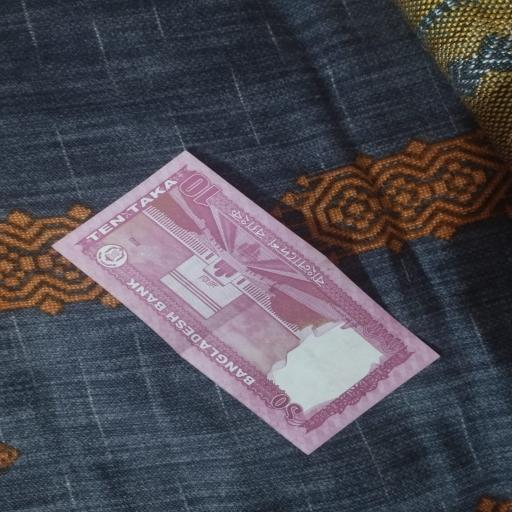10taka: (45, 149, 445, 456)
